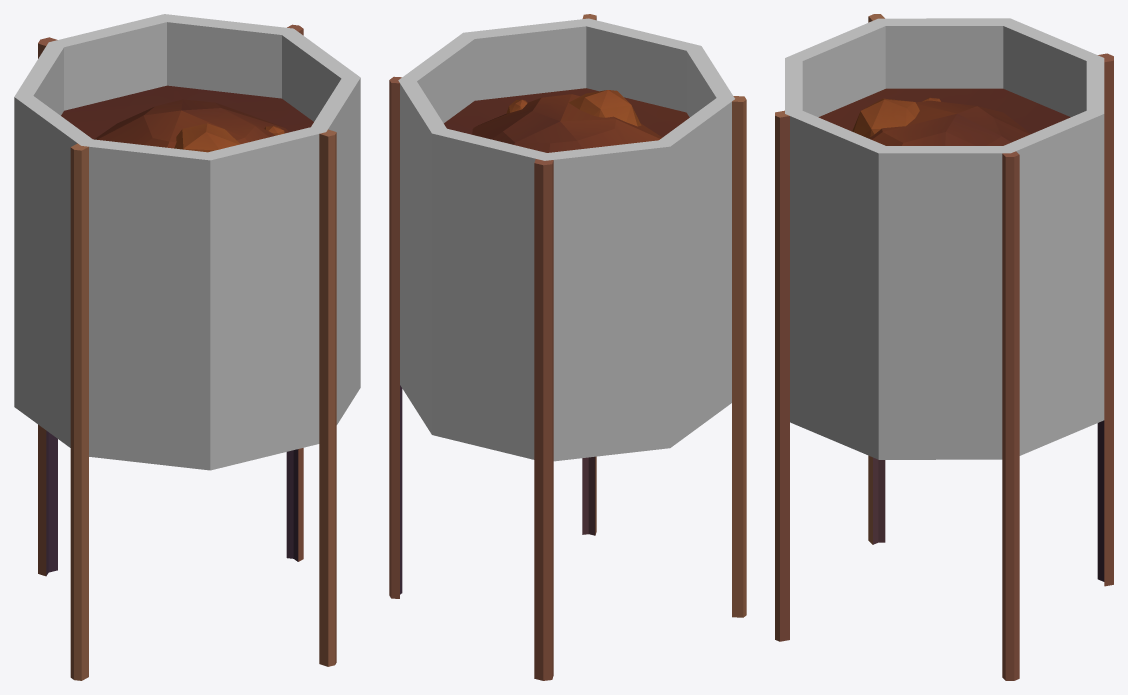
Rendered from Garden_UkeaPlanter01.fbx.
3 views of the same model, side by side, from view 1: azimuth 30°, elevation 25°; view 2: azimuth 150°, elevation 25°; view 3: azimuth 270°, elevation 25° (orthographic). The views are drawn at different scales.
Parts seen in each view (by area): view 1: Plant Pot.001; view 2: Plant Pot.001; view 3: Plant Pot.001.
Boxes of the visible parts, left/top/right/bottom form: Plant Pot.001: left=14, top=14, right=360, bottom=680; Plant Pot.001: left=389, top=14, right=746, bottom=680; Plant Pot.001: left=775, top=14, right=1113, bottom=680.
Bounding box in the file's own units: 30.04 × 51.39 × 30.11.
